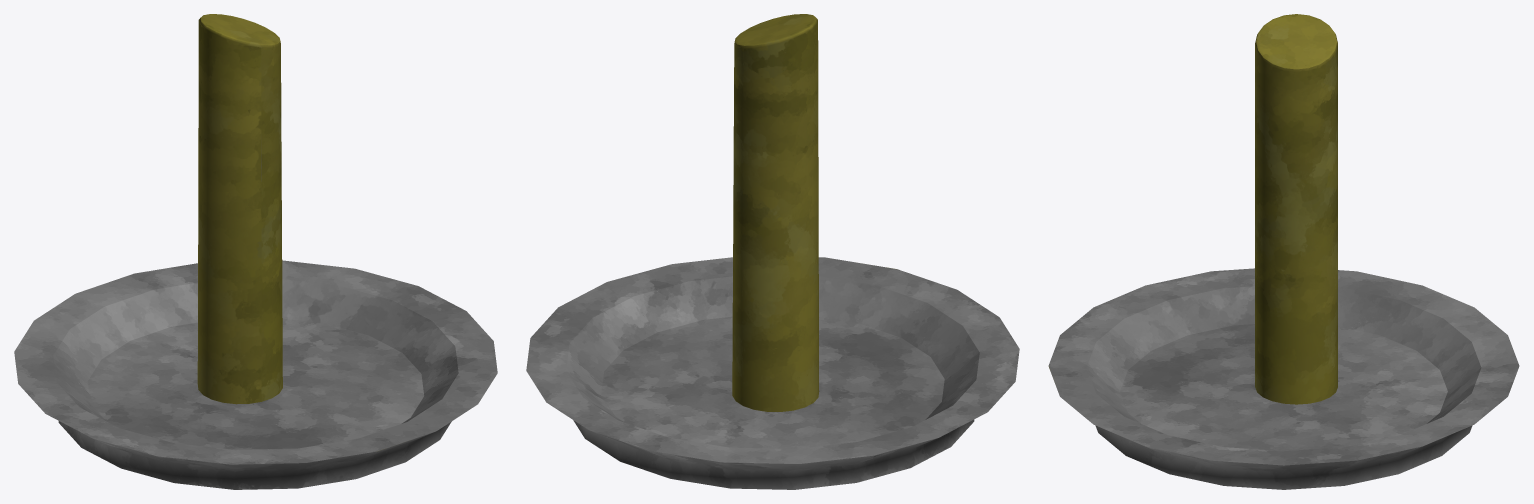
The model's file is Vela Pires.fbx.
3 views of the same model, side by side, from view 1: azimuth 30°, elevation 25°; view 2: azimuth 150°, elevation 25°; view 3: azimuth 270°, elevation 25° (orthographic). The views are drawn at different scales.
Visible parts, largest first — view 1: Vela Pires; view 2: Vela Pires; view 3: Vela Pires.
Part boxes in pixels (x1=…): Vela Pires: x1=14, y1=14, x2=497, y2=489; Vela Pires: x1=526, y1=14, x2=1019, y2=489; Vela Pires: x1=1048, y1=14, x2=1519, y2=489.
Bounding box in the file's own units: 13.56 × 11.85 × 13.56.
1 material, 1 textured.
